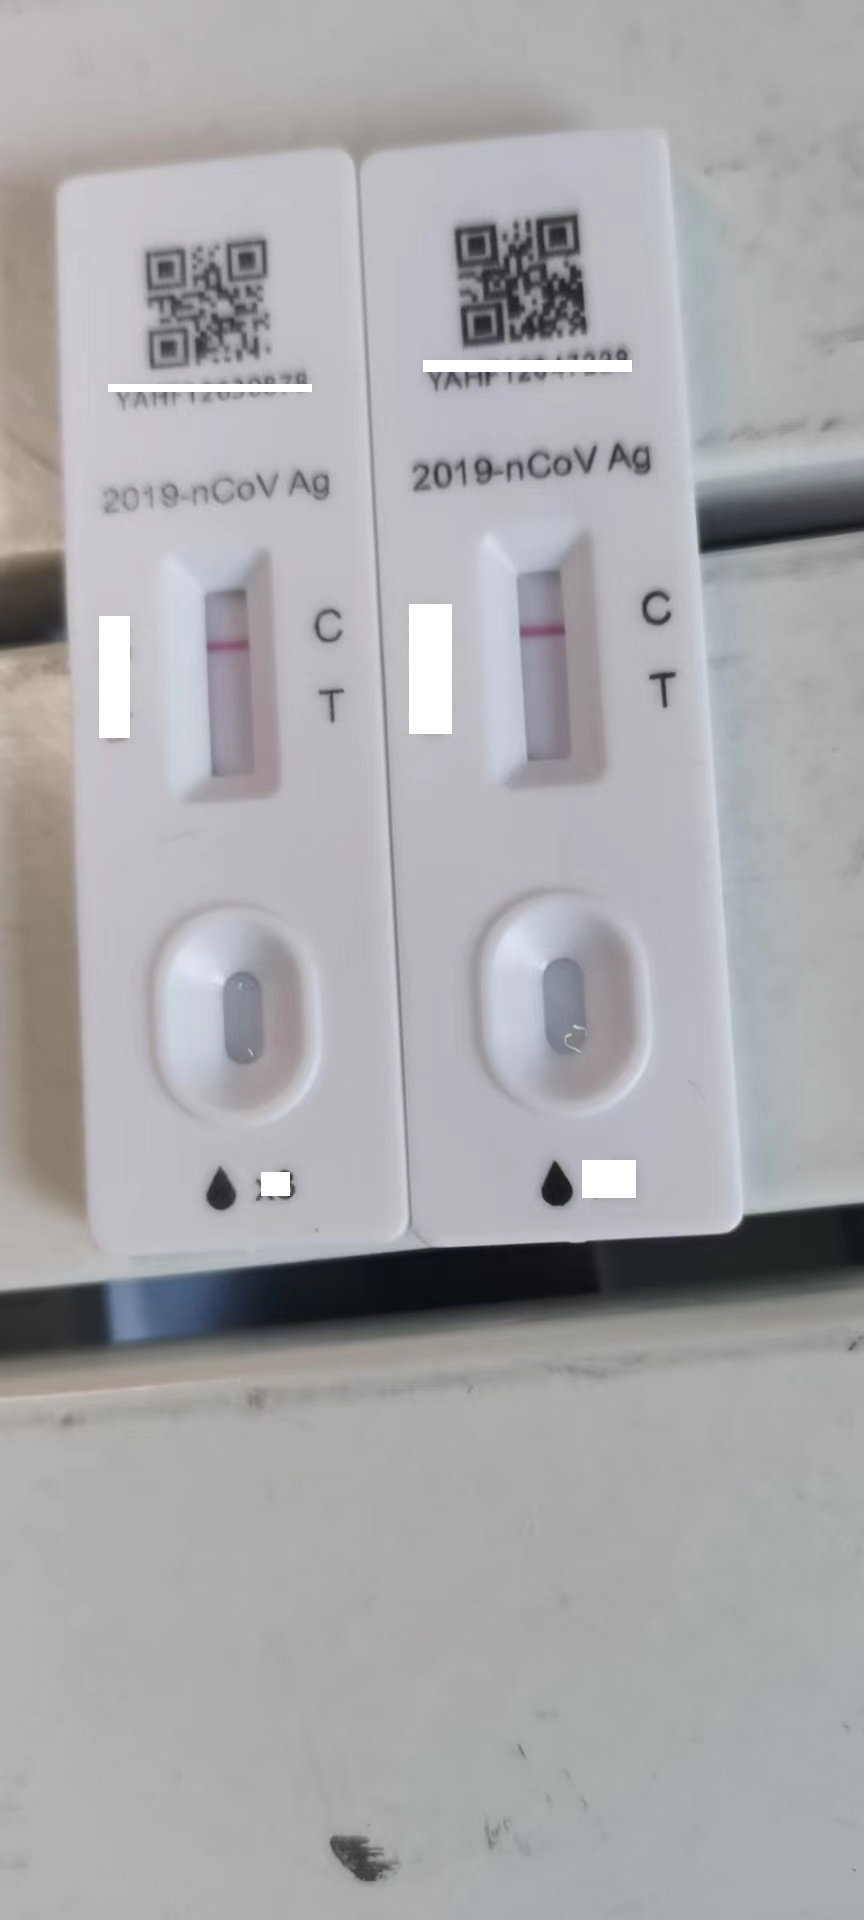negative: (493, 524, 598, 792), (182, 555, 273, 811)
